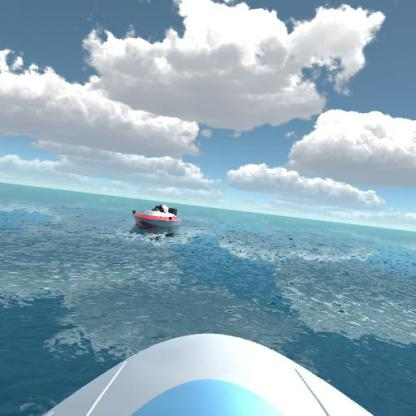usv3: (130, 196, 186, 239)
